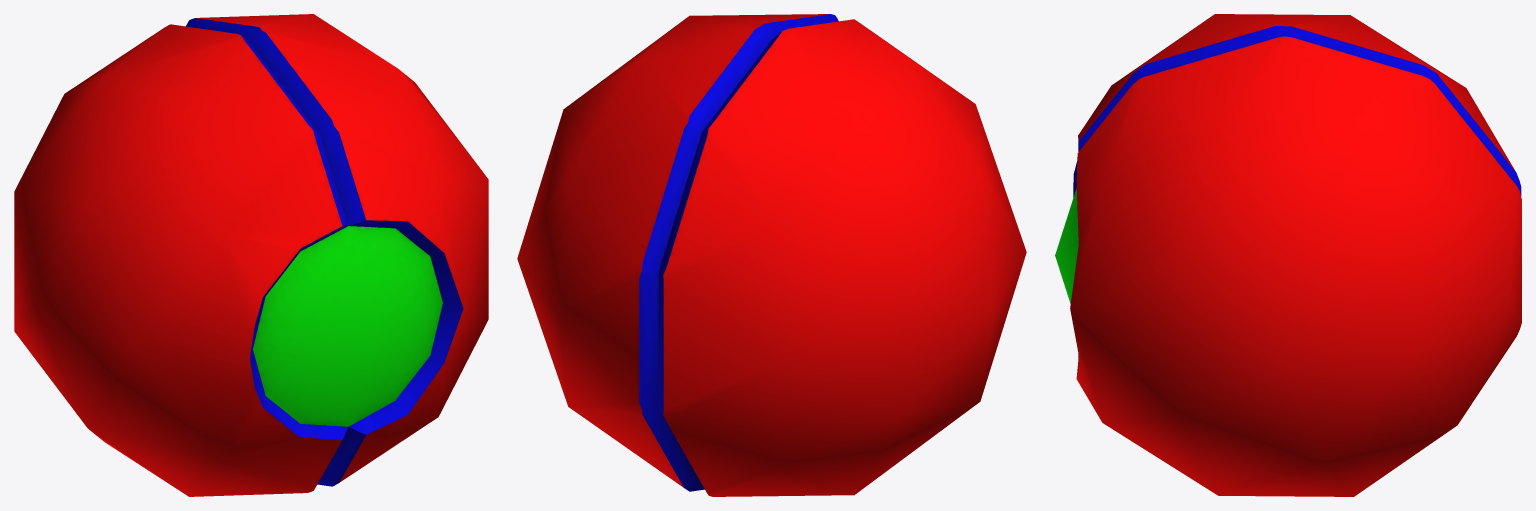
The model's file is drone.glb.
The picture shows the model from 3 angles, left to right: view 1: azimuth 30°, elevation 25°; view 2: azimuth 150°, elevation 25°; view 3: azimuth 270°, elevation 25°; orthographic projection. The views are drawn at different scales.
Visible parts, largest first — view 1: Icosphere; view 2: Icosphere; view 3: Icosphere.
Part boxes in pixels (bbox=[...]): Icosphere: bbox=[14, 14, 488, 496]; Icosphere: bbox=[517, 14, 1026, 496]; Icosphere: bbox=[1055, 14, 1521, 496].
Size of the model in its own units: 2 by 1.97 by 1.86.
Materials: 1 (1 with a texture image).
